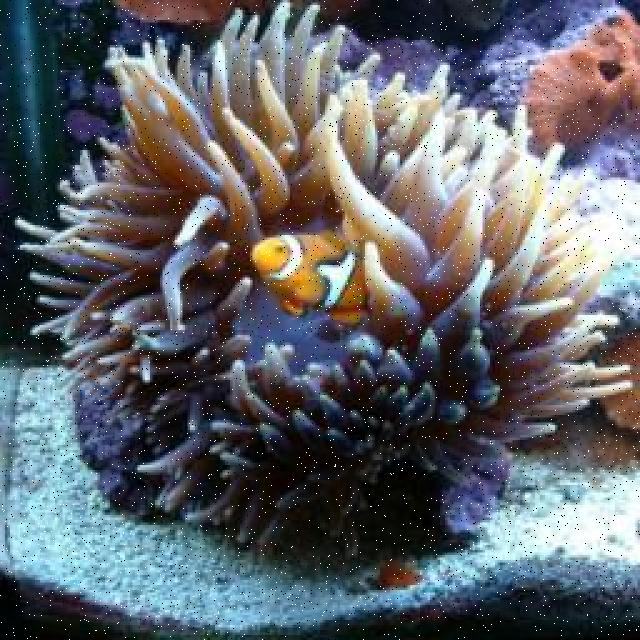fish: (253, 227, 369, 324)
reefs: (13, 1, 635, 546)
